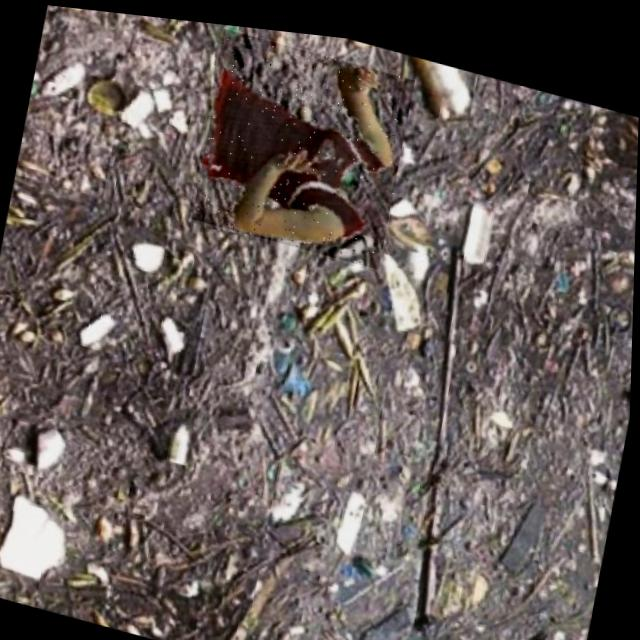Person in Rubble: (188, 21, 415, 263)
